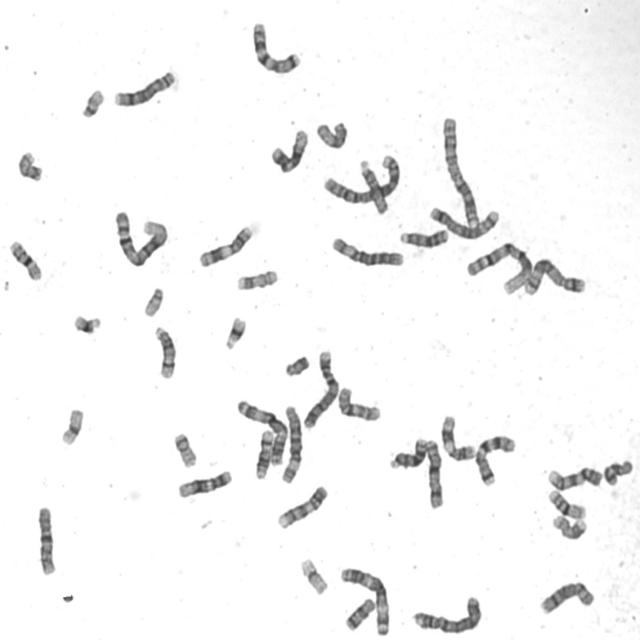A1: (463, 237, 534, 296), (112, 206, 170, 269)
A2: (438, 112, 482, 228), (319, 150, 403, 207)
A3: (336, 563, 392, 638), (233, 395, 290, 467)
B4: (299, 346, 340, 430), (409, 591, 483, 635)
B5: (520, 254, 588, 297), (426, 202, 501, 240)
C10: (334, 382, 383, 423), (33, 501, 58, 577)
C11: (195, 221, 255, 269), (437, 411, 476, 463)
C12: (267, 125, 310, 175), (174, 466, 233, 500)
C6: (328, 232, 407, 269), (278, 401, 304, 486)
C7: (248, 16, 303, 76), (471, 430, 518, 488)
C8: (110, 66, 178, 108), (536, 577, 596, 616)
C9: (274, 482, 329, 530), (544, 463, 604, 491)
D13: (386, 433, 428, 471), (396, 224, 450, 249)
D14: (150, 321, 178, 381), (252, 426, 275, 481)
D15: (355, 155, 390, 215), (312, 117, 350, 150)
E16: (6, 236, 44, 282), (544, 485, 588, 521)
E17: (233, 265, 279, 292), (549, 512, 588, 541)
E18: (342, 594, 377, 632), (600, 455, 634, 487)
F19: (296, 553, 329, 597), (57, 404, 85, 447)
F20: (170, 428, 198, 469), (13, 147, 44, 183)
G21: (220, 312, 248, 351), (70, 310, 102, 335)
G22: (78, 84, 106, 120), (140, 283, 166, 318)
X: (422, 435, 446, 510)
Y: (281, 351, 311, 378)
